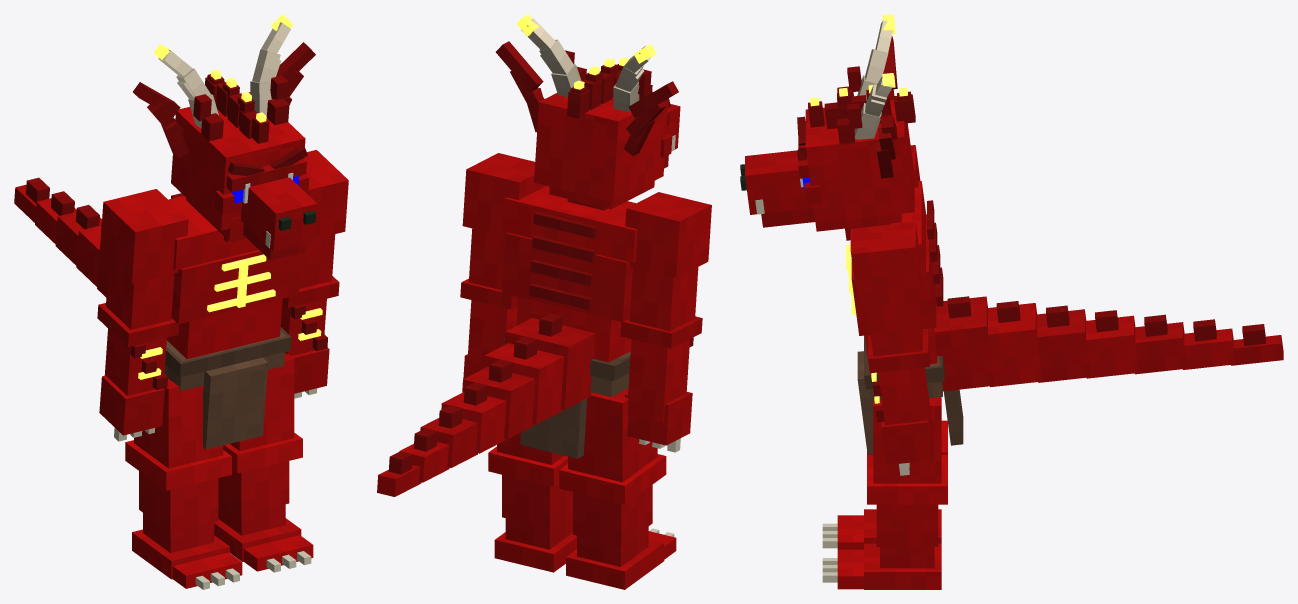
File: lizard_s2_evo2.glb
The picture shows the model from 3 angles, left to right: view 1: azimuth 30°, elevation 25°; view 2: azimuth 150°, elevation 25°; view 3: azimuth 270°, elevation 25°; orthographic projection.
Visible parts, largest first — view 1: Torso, Head, ArmR, LegR, LegL, ArmL, Root; view 2: Torso, Head, ArmR, LegR, ArmL, LegL; view 3: Torso, Head, ArmL, LegL, LegR, Root.
Part boxes in pixels (left/top/right/bottom): Torso: left=14, top=177, right=301, bottom=449; Head: left=133, top=14, right=317, bottom=260; ArmR: left=97, top=189, right=188, bottom=441; LegR: left=125, top=378, right=242, bottom=588; LegL: left=214, top=353, right=313, bottom=571; ArmL: left=280, top=150, right=348, bottom=398; Root: left=195, top=551, right=311, bottom=589; Torso: left=377, top=186, right=637, bottom=496; Head: left=496, top=14, right=680, bottom=210; ArmR: left=620, top=192, right=711, bottom=452; LegR: left=559, top=388, right=676, bottom=589; ArmL: left=460, top=153, right=546, bottom=378; LegL: left=488, top=432, right=576, bottom=572; Torso: left=846, top=181, right=1283, bottom=454; Head: left=740, top=14, right=915, bottom=240; ArmL: left=852, top=221, right=932, bottom=475; LegL: left=837, top=397, right=947, bottom=589; LegR: left=837, top=420, right=947, bottom=549; Root: left=822, top=523, right=837, bottom=582.
Bounding box in the file's own units: 0.78 × 1.83 × 1.75.
26 materials, 26 textured.
